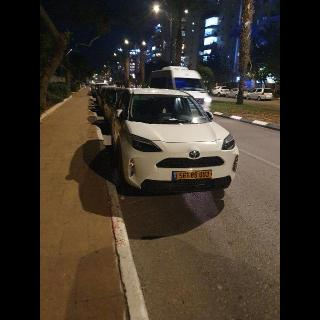LicensePlate: (177, 170, 212, 179)
